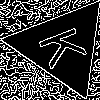K: (37, 21, 97, 70)
